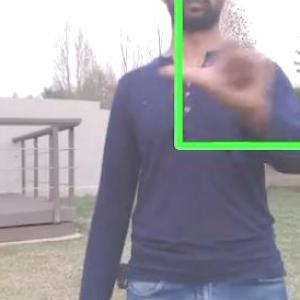land_hand: (156, 0, 284, 115)
